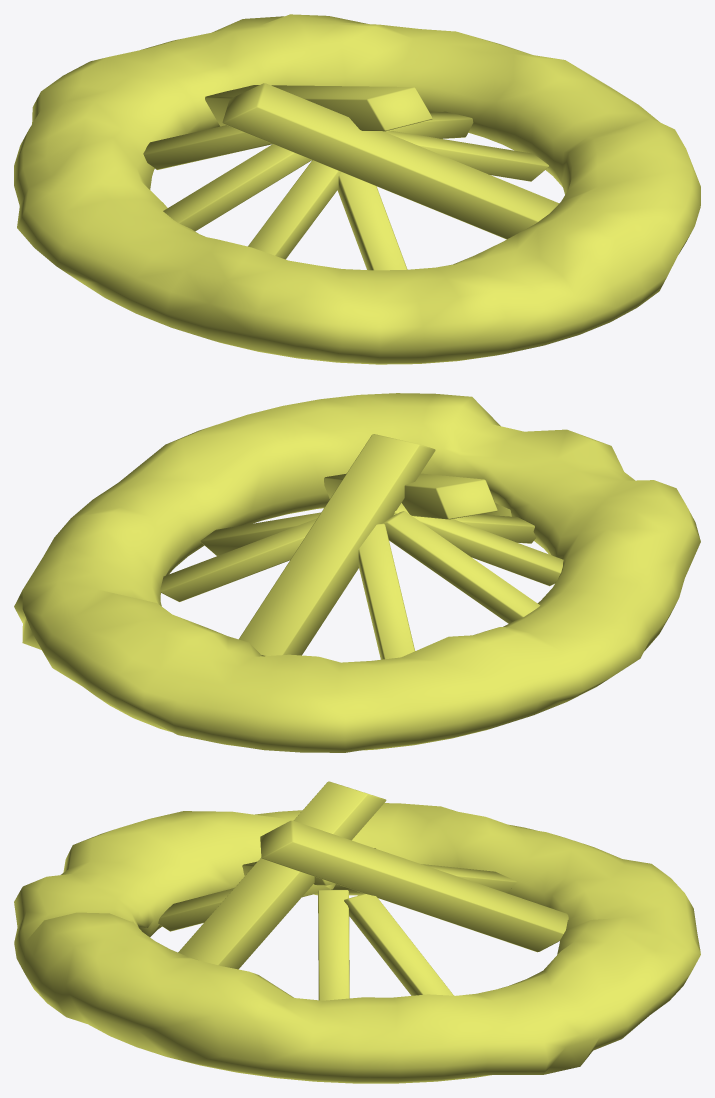
File: campfire.fbx
The picture shows the model from 3 angles, top to bottom: view 1: azimuth 30°, elevation 25°; view 2: azimuth 150°, elevation 25°; view 3: azimuth 270°, elevation 25°; orthographic projection. The views are drawn at different scales.
Visible parts, largest first — view 1: campfire; view 2: campfire; view 3: campfire.
Boxes of the visible parts, x1=… form: campfire: x1=14, y1=14, x2=700, y2=364; campfire: x1=14, y1=393, x2=700, y2=752; campfire: x1=14, y1=781, x2=700, y2=1083.
Size of the model in its own units: 326 by 88.19 by 371.
